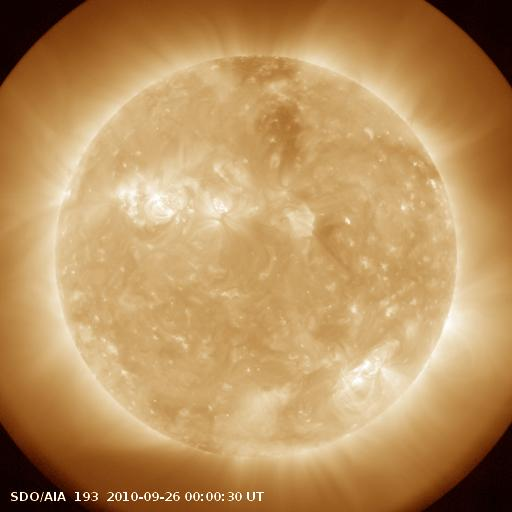coronal_hole: (216, 52, 310, 173)
